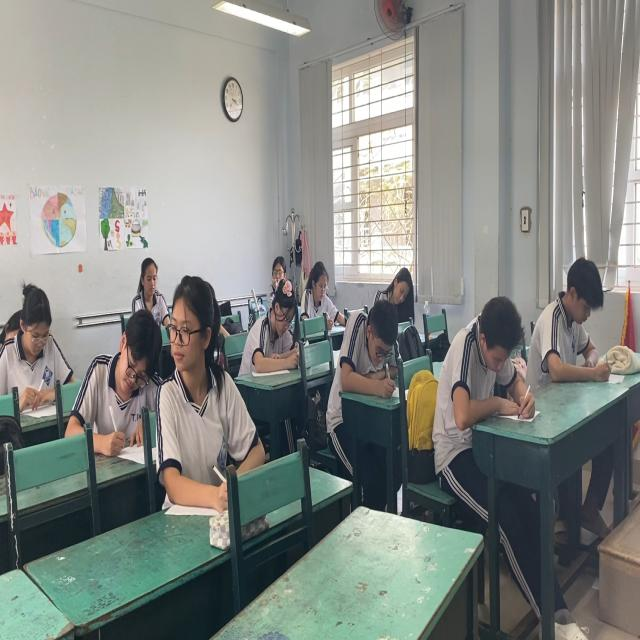cheating: (162, 267, 234, 474)
not_cheating: (444, 284, 525, 419), (2, 273, 71, 413), (532, 257, 609, 381), (92, 316, 162, 446), (337, 302, 405, 402), (242, 275, 302, 377), (292, 257, 341, 340), (131, 250, 166, 322), (376, 264, 419, 315)
